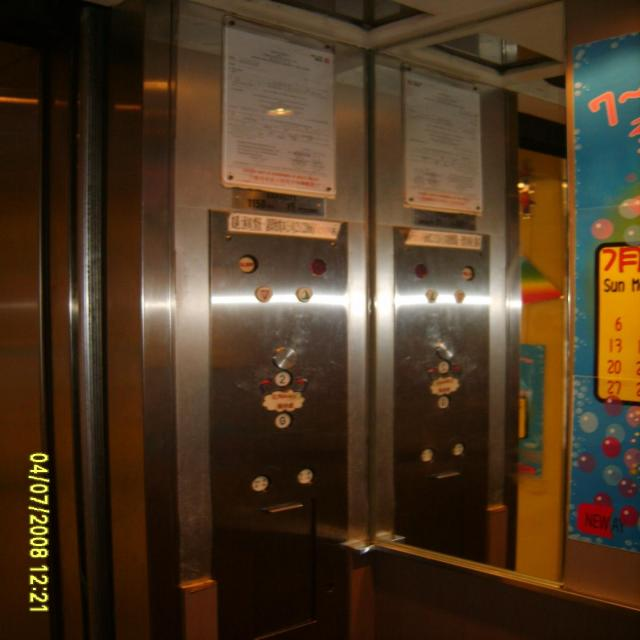2: (270, 369, 294, 389)
G: (270, 410, 294, 431)
blur: (234, 253, 259, 274), (246, 474, 270, 494), (293, 467, 317, 487), (416, 444, 438, 464), (448, 439, 467, 459), (458, 264, 477, 283)
down: (253, 284, 274, 304)
empty: (270, 344, 300, 370), (306, 256, 330, 278), (434, 338, 459, 358), (410, 262, 431, 280)
unknown: (434, 395, 456, 413), (433, 358, 452, 375)
up: (292, 285, 314, 304), (423, 287, 440, 305)
